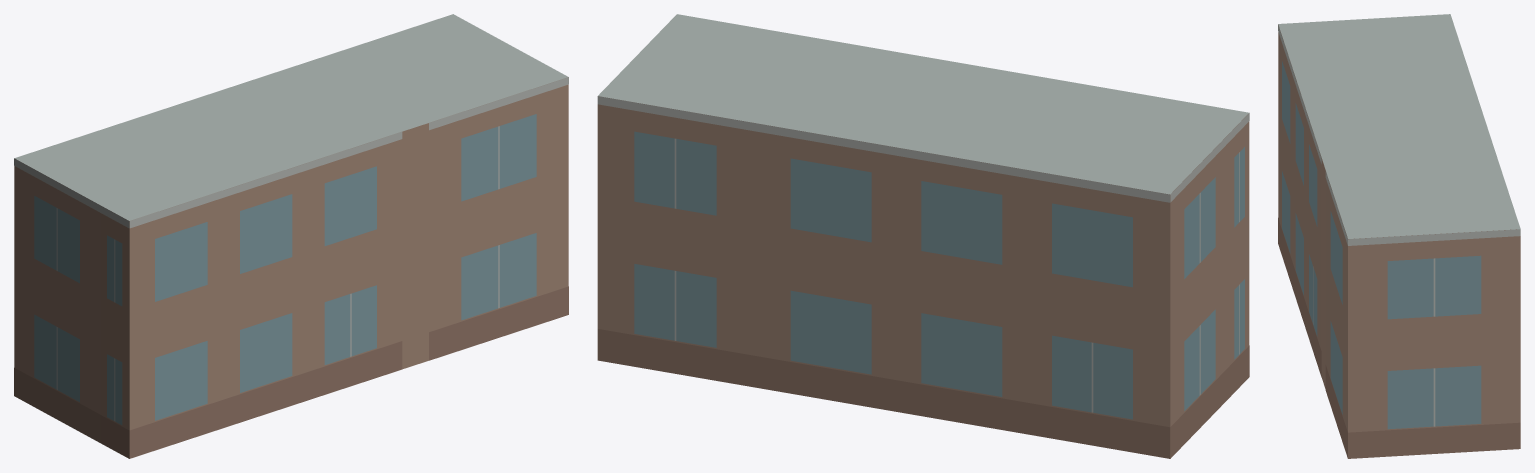
File: survey-upis-32801519.glb
The picture shows the model from 3 angles, left to right: view 1: azimuth 30°, elevation 25°; view 2: azimuth 150°, elevation 25°; view 3: azimuth 270°, elevation 25°; orthographic projection. The views are drawn at different scales.
Visible parts, largest first — view 1: survey-upis-32801519.tmp; view 2: survey-upis-32801519.tmp; view 3: survey-upis-32801519.tmp.
Boxes of the visible parts, box(x1,y1,x2,y2) form: survey-upis-32801519.tmp: box(14, 14, 568, 458); survey-upis-32801519.tmp: box(597, 14, 1249, 458); survey-upis-32801519.tmp: box(1278, 14, 1520, 458).
Bounding box in the file's own units: 17.03 × 7.75 × 7.76.
